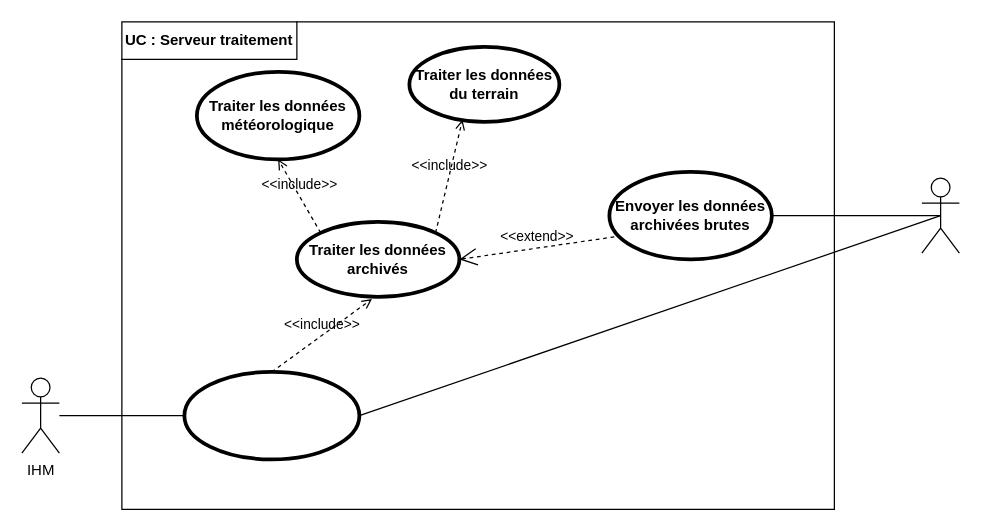
Image size: 981x531. Some labels were removed from this diagram. The shapes that lost their labels are listed below. From the top down, each one's box as (x1, y1, x2, y2) in pixels, then its label:
(921, 177, 959, 253): BDD
(182, 369, 361, 461): Recevoir les données traitées
